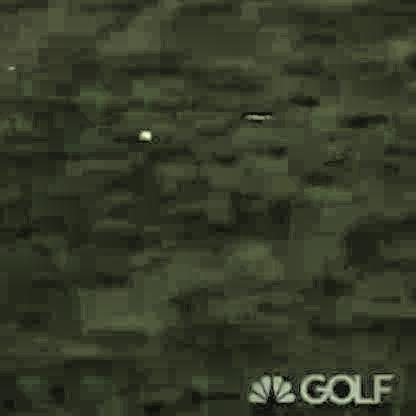golfball: (136, 125, 152, 141)
